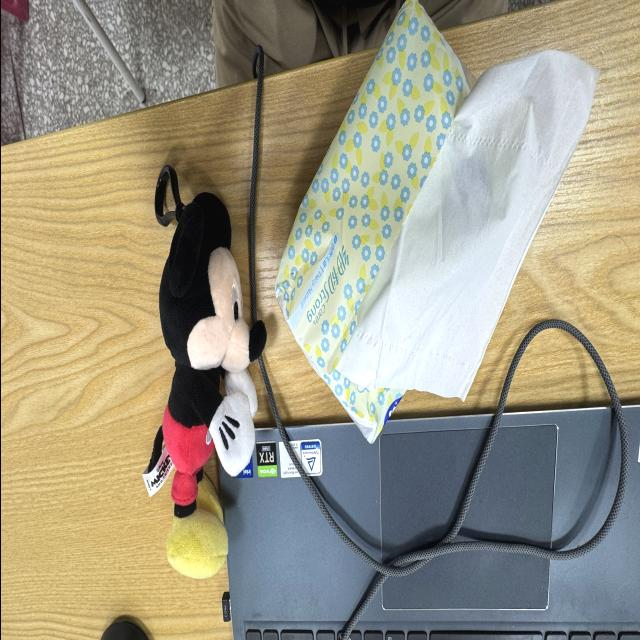mickey: (159, 193, 265, 578)
tissue: (337, 51, 597, 399), (274, 0, 471, 440)
